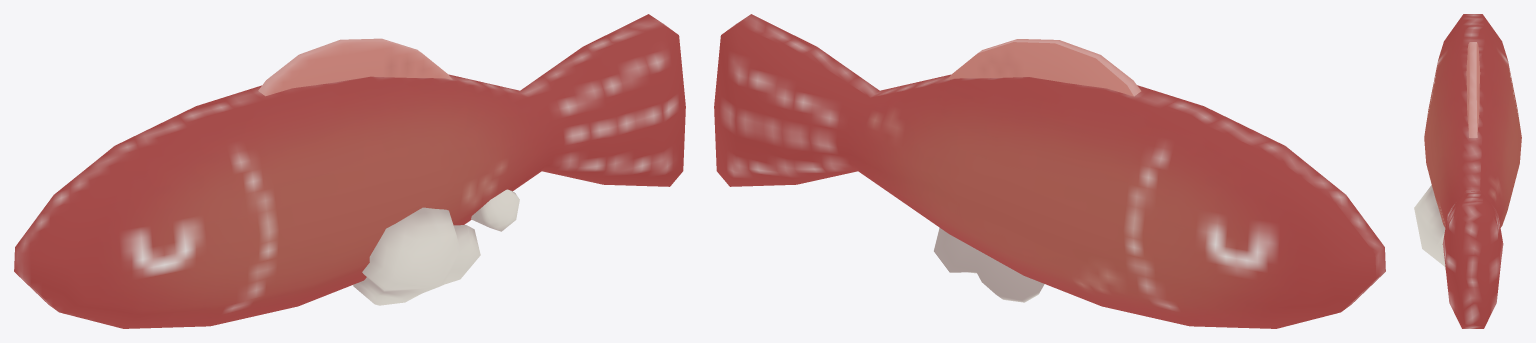
File: FishToy.fbx
3 renders of one model, left to right at view 1: azimuth 30°, elevation 25°; view 2: azimuth 150°, elevation 25°; view 3: azimuth 270°, elevation 25°, orthographic. The views are drawn at different scales.
Parts seen in each view (by area): view 1: Item_FishToy; view 2: Item_FishToy; view 3: Item_FishToy.
Part boxes in pixels (x1,y1,x2,y2): Item_FishToy: (14, 14, 685, 328); Item_FishToy: (714, 14, 1385, 328); Item_FishToy: (1414, 14, 1521, 328).
Bounding box in the file's own units: 0.0676 × 0.0266 × 0.013.
